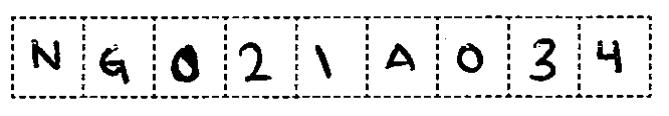0: (165, 40, 205, 90), (449, 37, 488, 82)
1: (307, 38, 342, 86)
2: (234, 38, 276, 86)
3: (522, 33, 563, 87)
4: (592, 34, 628, 80)
A: (378, 37, 419, 76)
G: (95, 40, 134, 89)
N: (24, 33, 68, 78)
